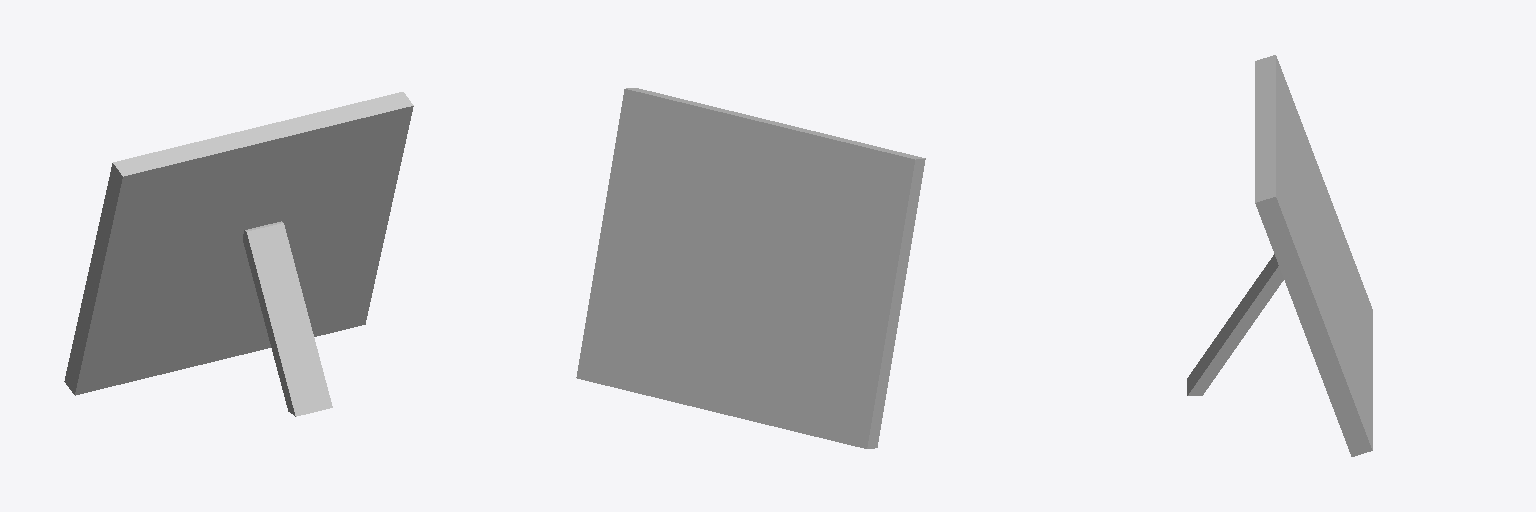
Rendered from picture_frame.obj.
3 views of the same model, side by side, from view 1: azimuth 30°, elevation 25°; view 2: azimuth 150°, elevation 25°; view 3: azimuth 270°, elevation 25° (orthographic).
Parts seen in each view (by area): view 1: Cube.018; view 2: Cube.018; view 3: Cube.018.
Part boxes in pixels (left/top/right/bottom): Cube.018: left=64, top=92, right=413, bottom=416; Cube.018: left=576, top=88, right=925, bottom=448; Cube.018: left=1187, top=55, right=1372, bottom=456.
Bounding box in the file's own units: 0.2672 × 0.2292 × 0.1475.